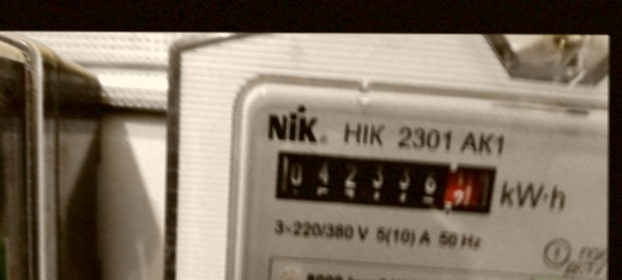0: (289, 158, 302, 187)
2: (341, 160, 359, 187)
3: (368, 161, 384, 190), (397, 162, 411, 190)
4: (315, 159, 331, 186)
6: (422, 168, 437, 195)
screen: (264, 141, 504, 223)
